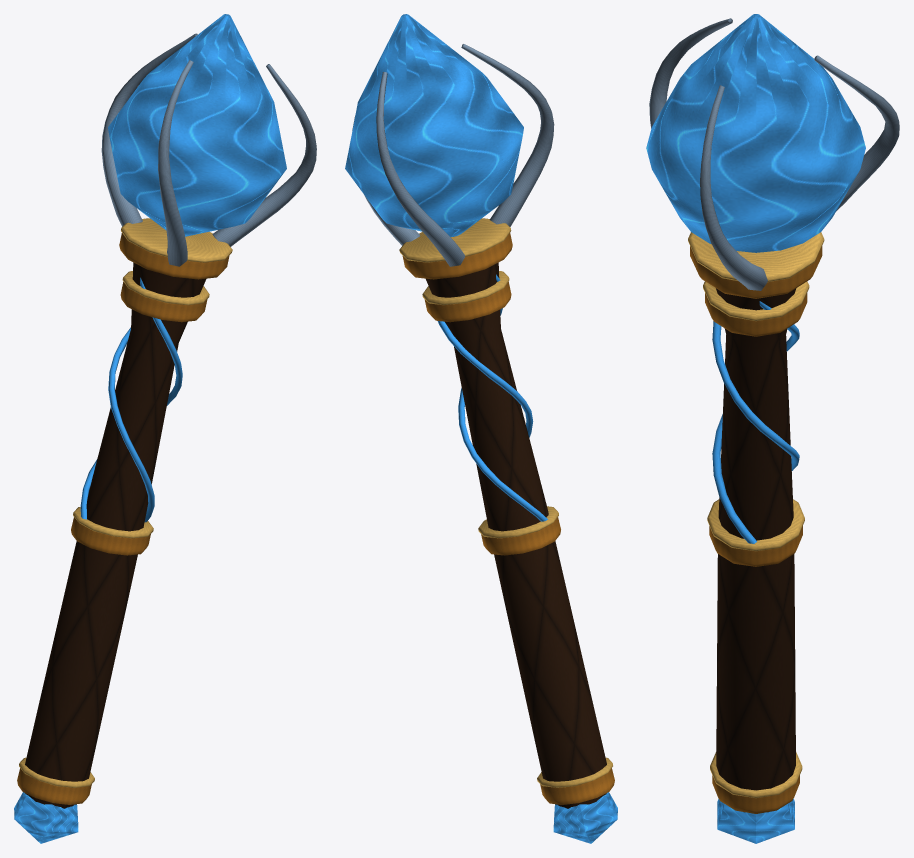
File: water_rod.glb
The picture shows the model from 3 angles, left to right: view 1: azimuth 30°, elevation 25°; view 2: azimuth 150°, elevation 25°; view 3: azimuth 270°, elevation 25°; orthographic projection. The views are drawn at different scales.
Visible parts, largest first — view 1: Leather wrapped grip, Glass droplet focus, Wave crest prong (×3), Engraved metal collar (×4), Polished collar edge (×4), Spiral elemental shaft inlay (×2), Inset elemental pommel; view 2: Leather wrapped grip, Glass droplet focus, Wave crest prong (×3), Engraved metal collar (×4), Polished collar edge (×4), Spiral elemental shaft inlay (×2), Inset elemental pommel; view 3: Glass droplet focus, Leather wrapped grip, Wave crest prong (×3), Polished collar edge (×4), Engraved metal collar (×4), Spiral elemental shaft inlay (×2), Inset elemental pommel.
Boxes of the visible parts, box(x1,y1,x2,y2) form: Leather wrapped grip: box(25, 262, 206, 808); Glass droplet focus: box(108, 14, 286, 236); Wave crest prong (×3): box(101, 33, 316, 266); Engraved metal collar (×4): box(17, 233, 229, 804); Polished collar edge (×4): box(19, 218, 232, 787); Spiral elemental shaft inlay (×2): box(80, 277, 182, 522); Inset elemental pommel: box(14, 792, 78, 843); Leather wrapped grip: box(426, 262, 606, 808); Glass droplet focus: box(345, 14, 523, 236); Wave crest prong (×3): box(352, 44, 554, 266); Engraved metal collar (×4): box(402, 233, 614, 804); Polished collar edge (×4): box(399, 218, 612, 787); Spiral elemental shaft inlay (×2): box(437, 274, 547, 521); Inset elemental pommel: box(553, 792, 617, 843); Glass droplet focus: box(646, 14, 865, 252); Leather wrapped grip: box(716, 288, 796, 812); Wave crest prong (×3): box(649, 18, 899, 290); Polished collar edge (×4): box(688, 232, 824, 798); Engraved metal collar (×4): box(690, 246, 822, 813); Spiral elemental shaft inlay (×2): box(712, 301, 799, 543); Inset elemental pommel: box(717, 799, 794, 843).
Size of the model in its own units: 25.31 by 66.9 by 16.49.
6 materials, 6 textured.
